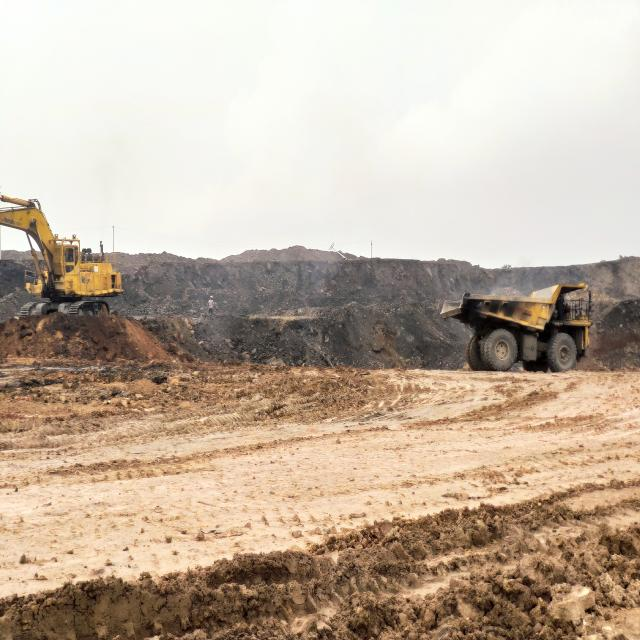dump_truck: (438, 281, 594, 373)
excavator: (0, 194, 124, 315)
